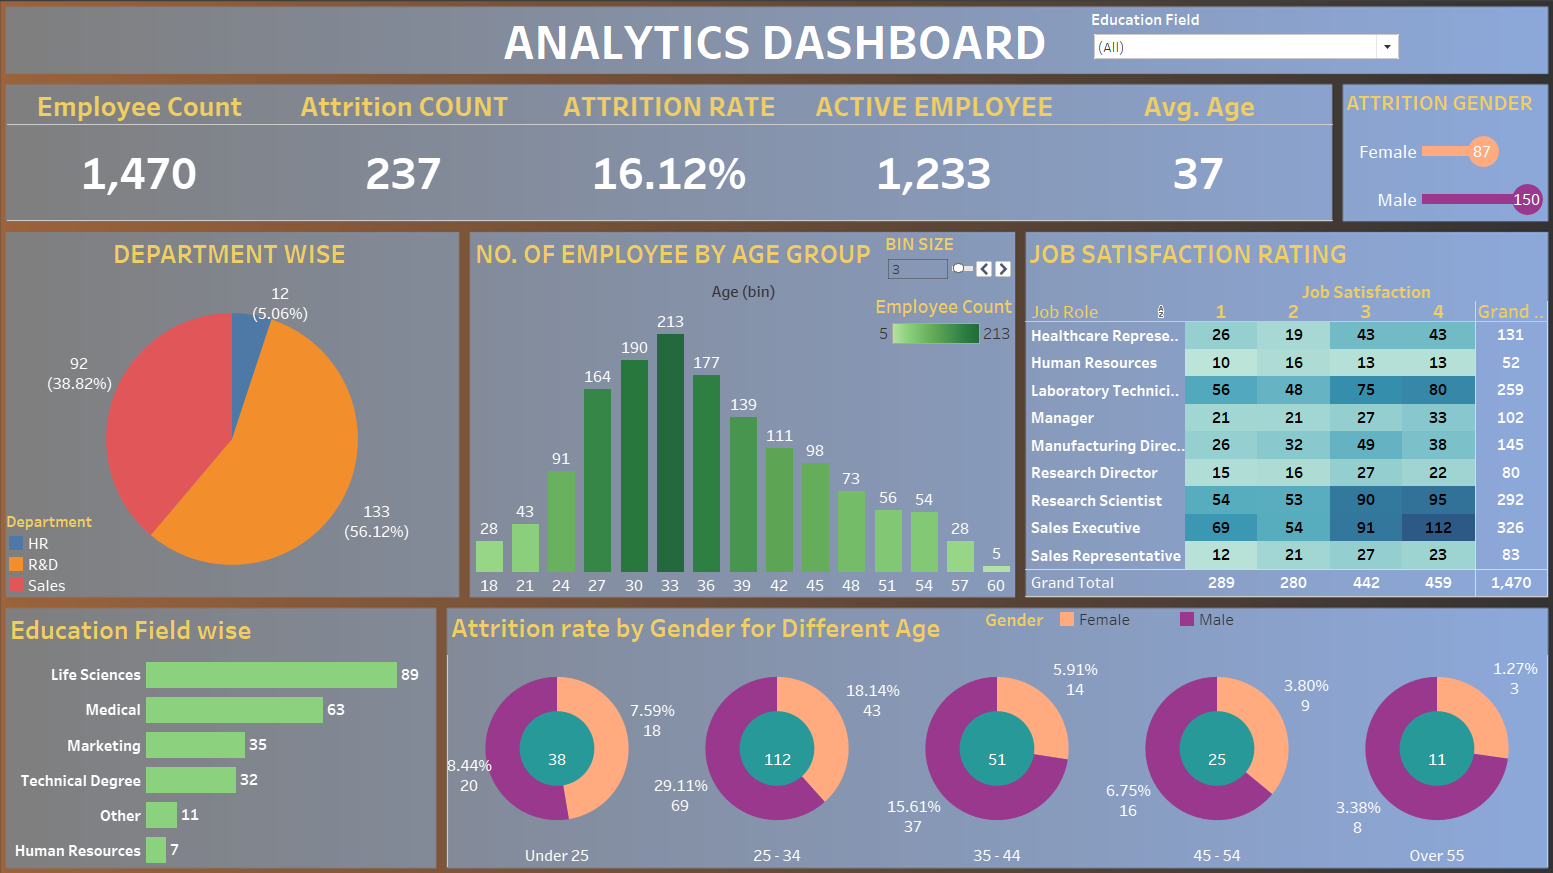

The dashboard page shown, as its layout file describes it:
{"tool":"tableau","page":{"name":"Dashboard 1","canvas":[1580,900],"ordinal":0},"visuals":[{"type":"image","param":"C:/Users/Sourav/Downloads/HR background.pptx.png","box":[8,8,1564,884]},{"type":"text","box":[17,19,1542,66]},{"type":"filter","title":"DEPARTMENT WISE ","param":"[federated.1aoq7w40qjuewz114ne8h040aa39].[none:Education Field:nk]","box":[1104,21,311,63]},{"type":"worksheet","title":"KPI","mark":"Automatic","box":[20,96,1326,137]},{"type":"worksheet","title":"ATTRITION GENDER","mark":"Automatic","rows":["Gender"],"cols":["Calculation_809522035113840640","Calculation_809522035113840640"],"box":[1355,96,207,139]},{"type":"parameter","param":"[Parameters].[Parameter 1]","box":[898,243,129,50]},{"type":"worksheet","title":"DEPARTMENT WISE ","mark":"Pie","box":[18,244,454,365]},{"type":"worksheet","title":"NO. OF EMPLOYEE BY AGE GROUP","mark":"Automatic","rows":["Employee Count"],"cols":["Age (bin)"],"box":[484,244,544,365]},{"type":"worksheet","title":"JOB SATISFACTION RATING","mark":"Square","rows":["Job Role"],"cols":["Job Satisfaction"],"box":[1038,244,523,365]},{"type":"legend","title":"NO. OF EMPLOYEE BY AGE GROUP","param":"[federated.1aoq7w40qjuewz114ne8h040aa39].[sum:Employee Count:qk]","box":[888,305,140,88]},{"type":"legend","title":"DEPARTMENT WISE ","param":"[federated.1aoq7w40qjuewz114ne8h040aa39].[none:Department:nk]","box":[19,523,140,85]},{"type":"worksheet","title":"Attrition rate by Gender for Different Age","mark":"Pie","rows":["Calculation_809522035160317957","Calculation_809522035160317957"],"cols":["CF_age band"],"box":[460,618,1101,262]},{"type":"worksheet","title":"Education Field wise","mark":"Automatic","rows":["Education Field"],"cols":["Calculation_809522035113840640"],"box":[19,620,430,260]},{"type":"legend","title":"Attrition rate by Gender for Different Age","param":"[federated.1aoq7w40qjuewz114ne8h040aa39].[none:Gender:nk]","box":[998,621,404,37]}]}

Visuals, with their boxes in screenshot pixels (x1, y1, x2, y2), scaled from the page's 1580x900 canvas onto the 1553x873 screenshot:
image: <region>8, 8, 1545, 865</region>
text: <region>17, 18, 1532, 82</region>
"DEPARTMENT WISE " filter: <region>1085, 20, 1391, 81</region>
"KPI" worksheet: <region>20, 93, 1323, 226</region>
"ATTRITION GENDER" worksheet: <region>1332, 93, 1535, 228</region>
parameter: <region>883, 236, 1009, 284</region>
"DEPARTMENT WISE " worksheet (Pie marks): <region>18, 237, 464, 591</region>
"NO. OF EMPLOYEE BY AGE GROUP" worksheet: <region>476, 237, 1010, 591</region>
"JOB SATISFACTION RATING" worksheet (Square marks): <region>1020, 237, 1534, 591</region>
"NO. OF EMPLOYEE BY AGE GROUP" legend: <region>873, 296, 1010, 381</region>
"DEPARTMENT WISE " legend: <region>19, 507, 156, 590</region>
"Attrition rate by Gender for Different Age" worksheet (Pie marks): <region>452, 599, 1534, 854</region>
"Education Field wise" worksheet: <region>19, 601, 441, 854</region>
"Attrition rate by Gender for Different Age" legend: <region>981, 602, 1378, 638</region>
